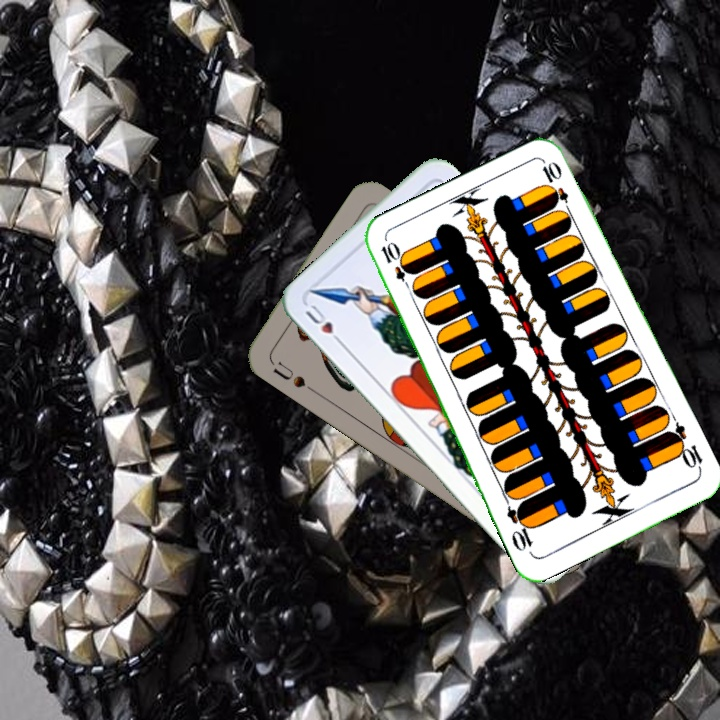E10: (663, 419, 705, 475), (377, 238, 416, 294)
HU: (301, 300, 347, 349)
SU: (268, 357, 317, 395)
